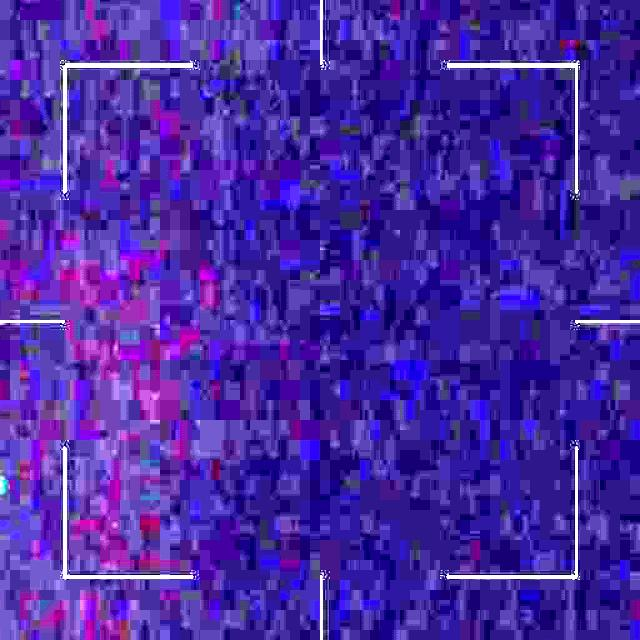bird: (0, 472, 8, 499)
